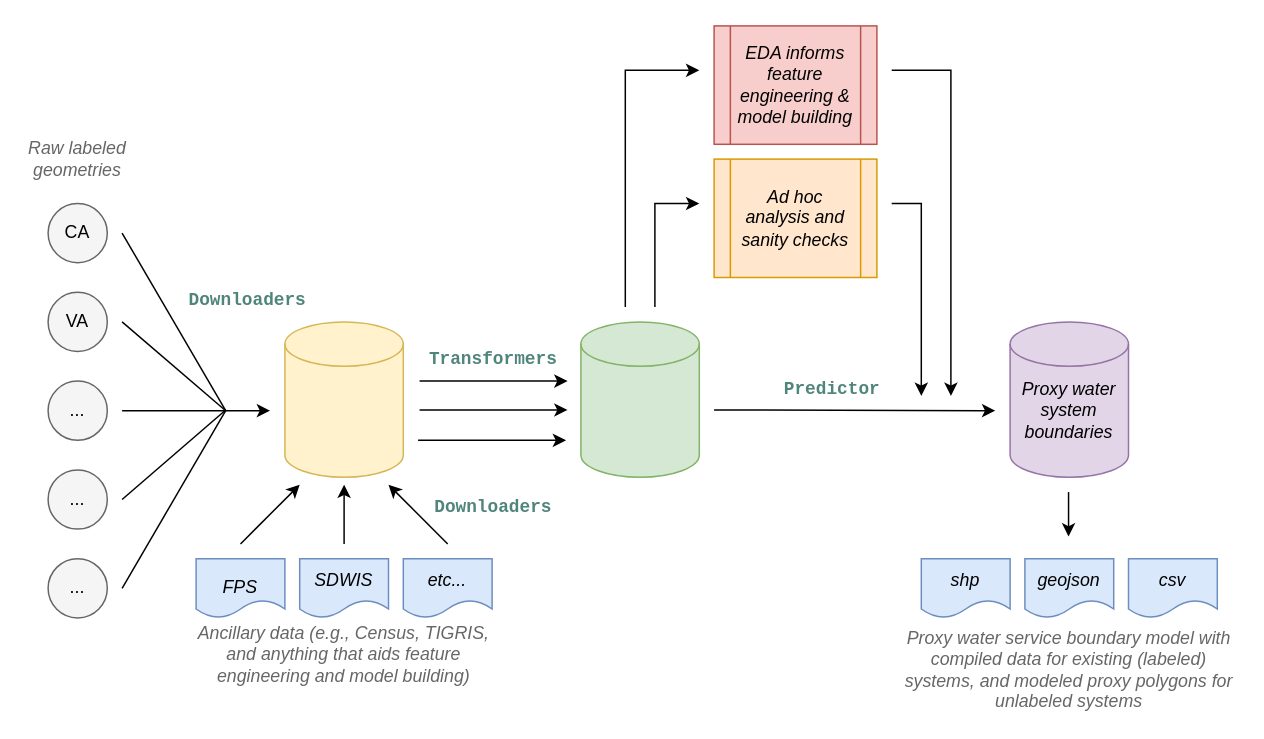
Image size: 1264x739. Some labels were removed from this diagram. The centre of each missing label's shape, as x and y in pixels:
Raw filesystem: the point at 343,398
Standardized staging filesystem: the point at 639,398
